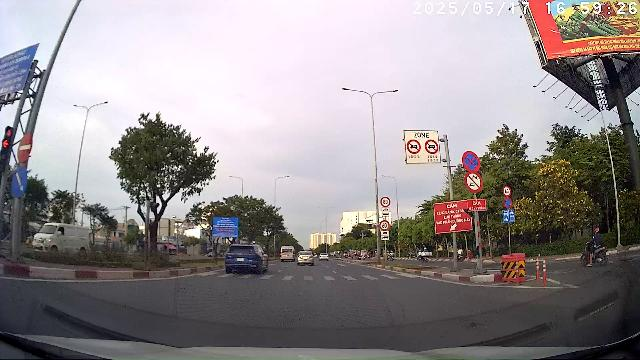127-toc-do-toi-da-60: (380, 220, 390, 230), (502, 186, 512, 196)
127-toc-do-toi-da-80: (381, 197, 391, 207)
130-cam-dung-va-do-xe: (462, 150, 480, 172)
131a-cam-do-xe: (504, 198, 512, 208)
